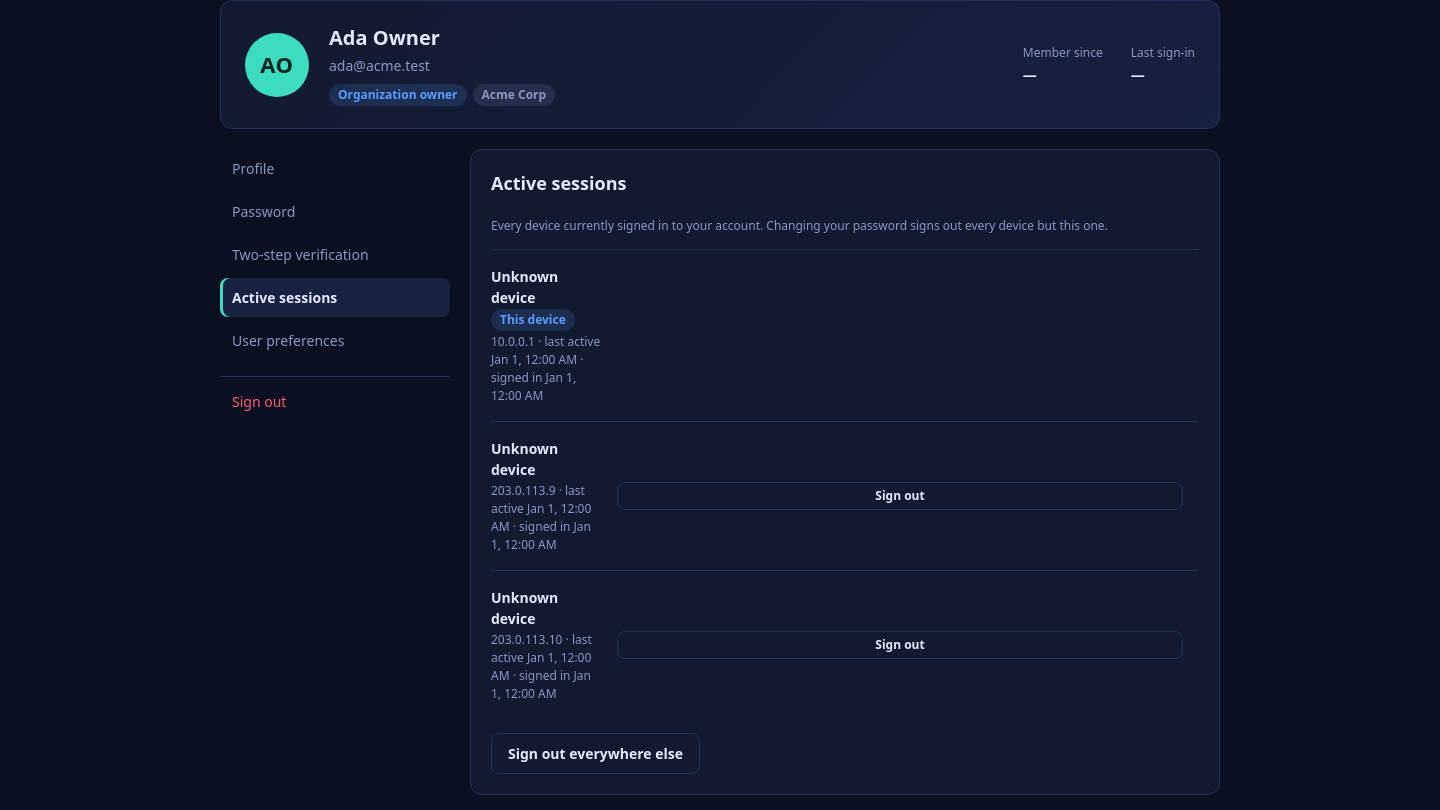
Test: AccountPage › signs out every other device after confirming, and reports how many
Click the button "Sign out everywhere else": (596, 754) [491,733,700,774]
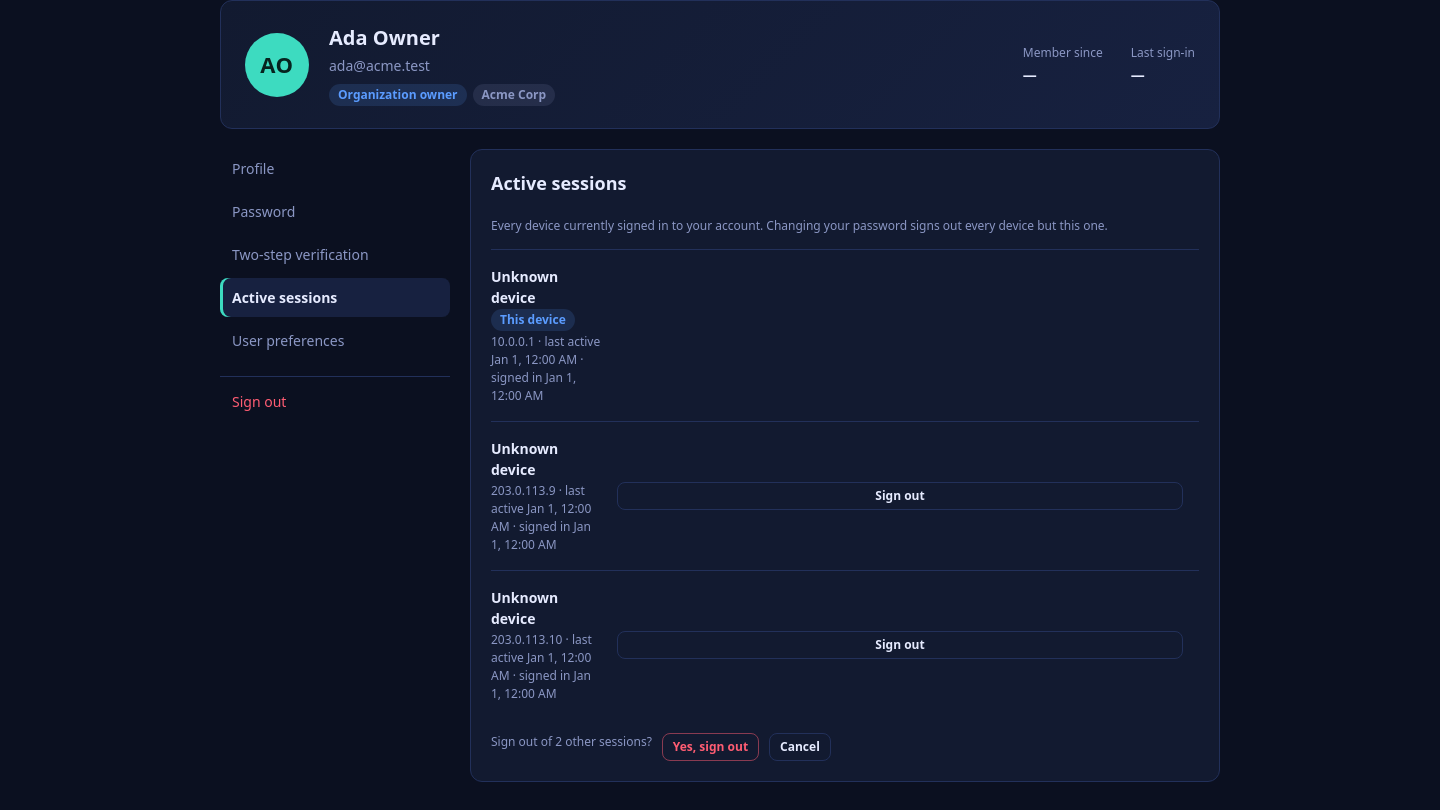
Click the button "Yes, sign out": (710, 747) [662,733,759,761]
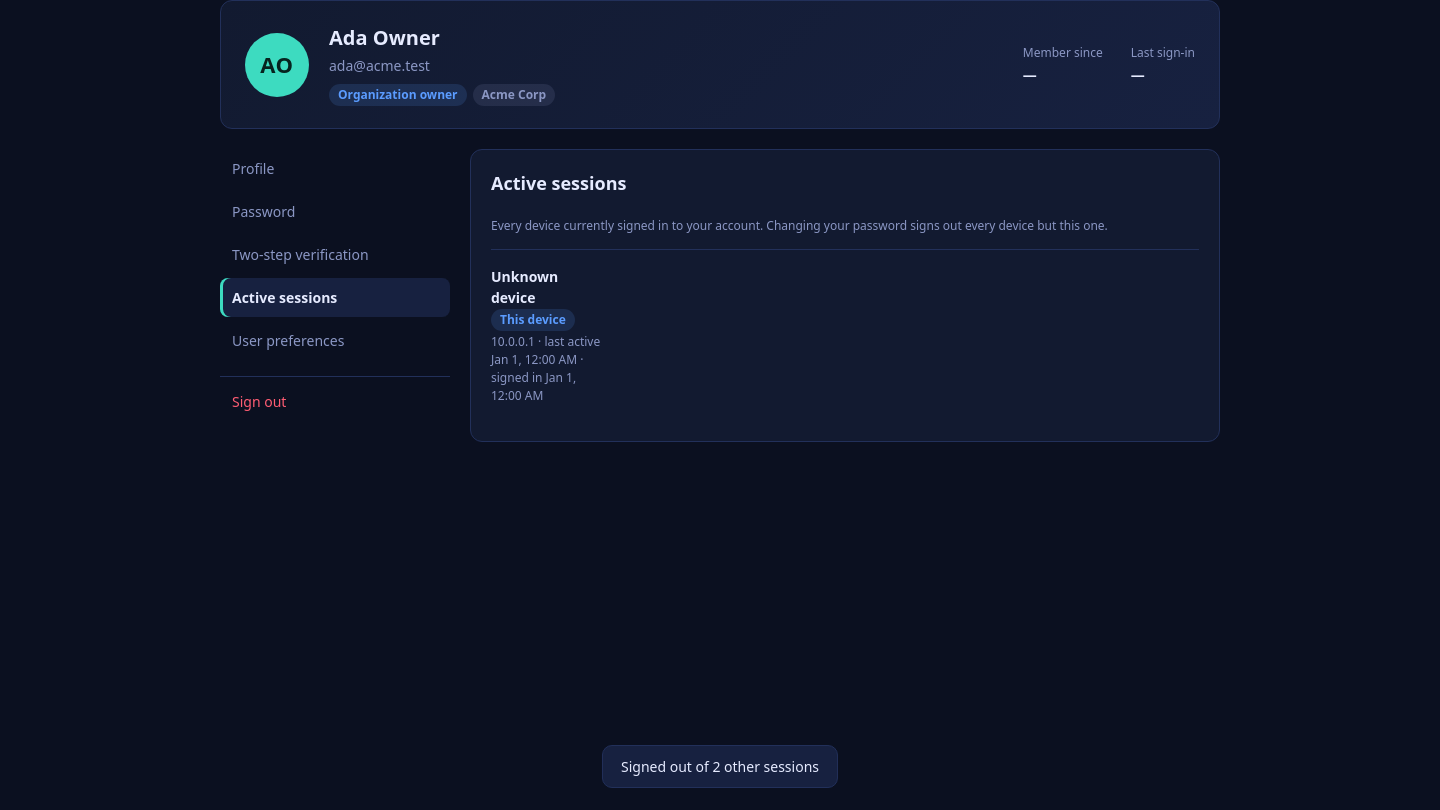
Expected: the button "Sign out everywhere else" is not shown
Expected: the text "Signed out of 2 other sessions" is shown, [602,745,838,788]
